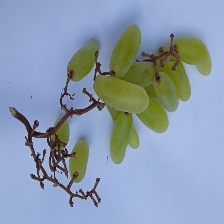grapes: (39, 7, 212, 194)
